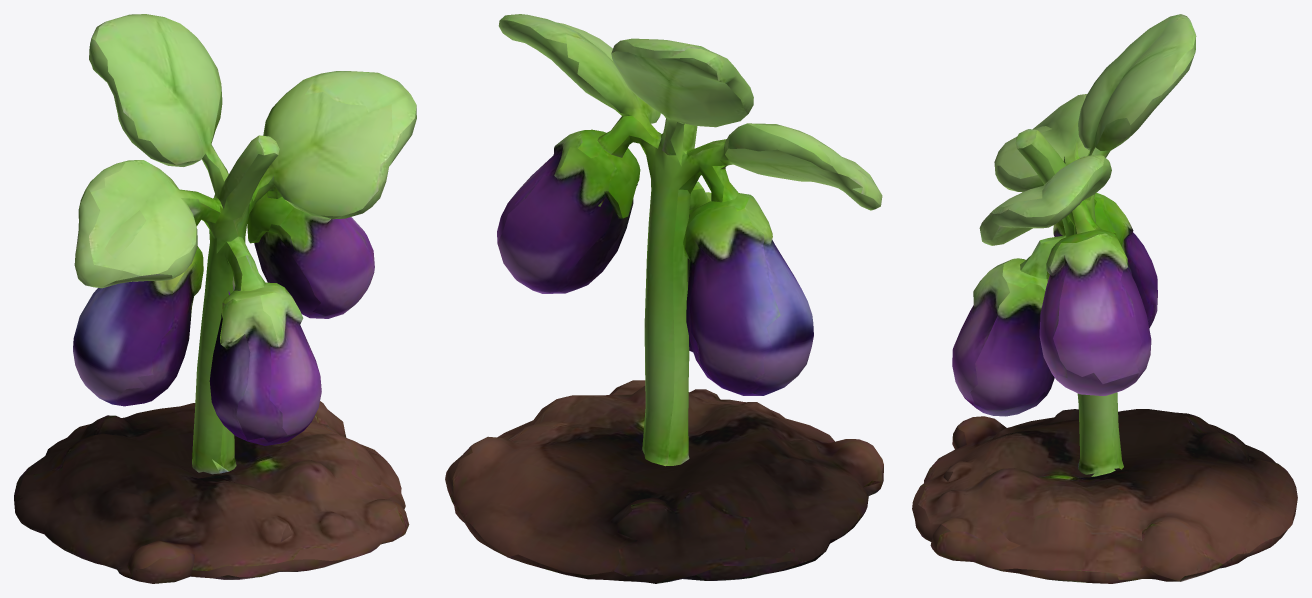
Rendered from crop_eggplant.glb.
The picture shows the model from 3 angles, left to right: view 1: azimuth 30°, elevation 25°; view 2: azimuth 150°, elevation 25°; view 3: azimuth 270°, elevation 25°; orthographic projection. The views are drawn at different scales.
Parts seen in each view (by area): view 1: crop_eggplant_s15; view 2: crop_eggplant_s15; view 3: crop_eggplant_s15.
Part boxes in pixels (x1,y1,x2,y2): crop_eggplant_s15: (14, 14, 416, 583); crop_eggplant_s15: (445, 14, 883, 583); crop_eggplant_s15: (912, 14, 1297, 583).
Bounding box in the file's own units: 0.7647 × 1 × 0.7592.
1 material, 1 textured.
